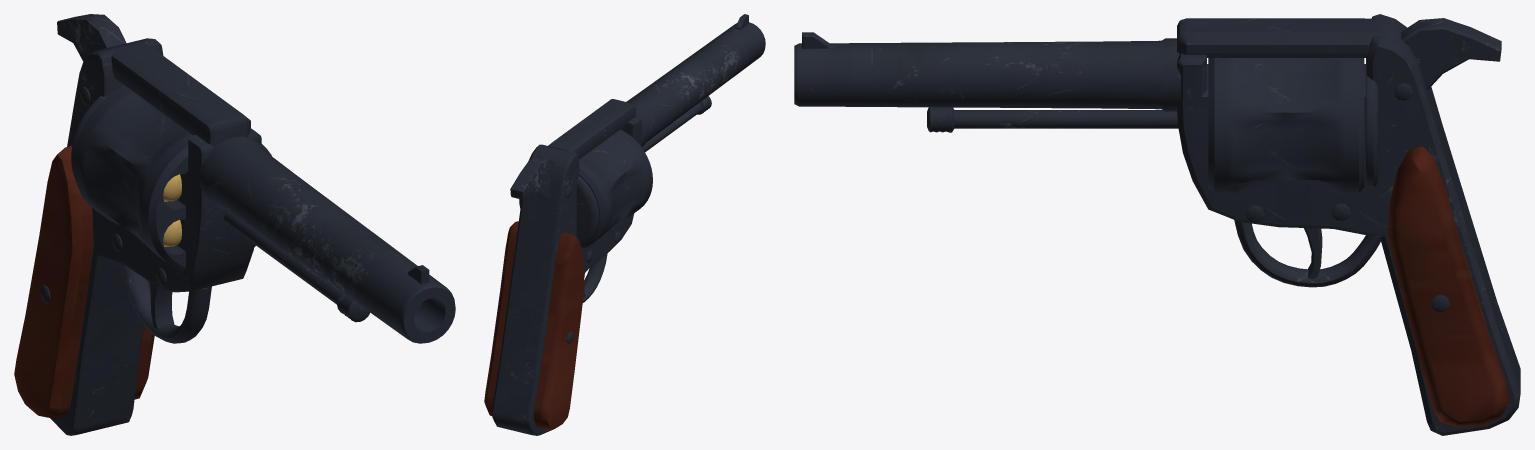
Rendered from Revolver.glb.
3 views of the same model, side by side, from view 1: azimuth 30°, elevation 25°; view 2: azimuth 150°, elevation 25°; view 3: azimuth 270°, elevation 25° (orthographic). The views are drawn at different scales.
Parts seen in each view (by area): view 1: Revolver_Frame, Revolver_Grips, Revolver_Cylinder, Revolver_Hammer, Revolver_Trigger, Revolver_Rounds; view 2: Revolver_Frame, Revolver_Grips, Revolver_Cylinder, Revolver_Hammer; view 3: Revolver_Frame, Revolver_Cylinder, Revolver_Grips, Revolver_Hammer.
Boxes of the visible parts, x1,y1,x2,y2 form: Revolver_Frame: [40, 38, 455, 435]; Revolver_Grips: [14, 146, 154, 418]; Revolver_Cylinder: [74, 85, 271, 270]; Revolver_Hammer: [57, 14, 126, 61]; Revolver_Trigger: [150, 282, 174, 328]; Revolver_Rounds: [163, 174, 181, 246]; Revolver_Frame: [492, 14, 765, 435]; Revolver_Grips: [484, 221, 584, 430]; Revolver_Cylinder: [579, 129, 652, 248]; Revolver_Hammer: [510, 155, 555, 200]; Revolver_Frame: [794, 14, 1520, 435]; Revolver_Cylinder: [1208, 58, 1364, 193]; Revolver_Grips: [1388, 146, 1509, 427]; Revolver_Hammer: [1401, 18, 1501, 89].
Size of the model in its own units: 0.038 by 0.1135 by 0.186.
Materials: 3 (3 with a texture image).
